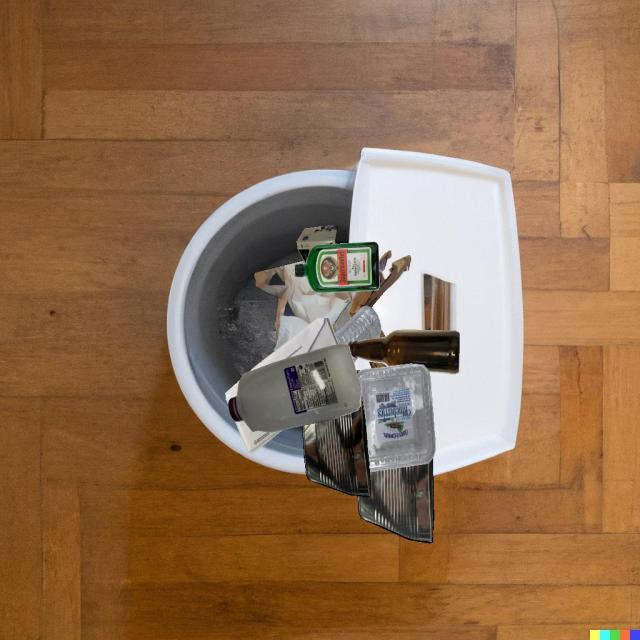cardboard: (349, 251, 391, 318), (297, 225, 338, 263), (369, 287, 389, 361), (389, 255, 411, 287)
glass: (347, 329, 459, 374), (293, 242, 380, 293), (332, 291, 358, 333), (356, 370, 361, 374)
metal: (302, 395, 370, 497), (358, 457, 434, 543)
paper: (254, 260, 352, 352), (228, 352, 309, 431)
plastic: (228, 344, 361, 432), (357, 364, 435, 472), (335, 306, 381, 346)
